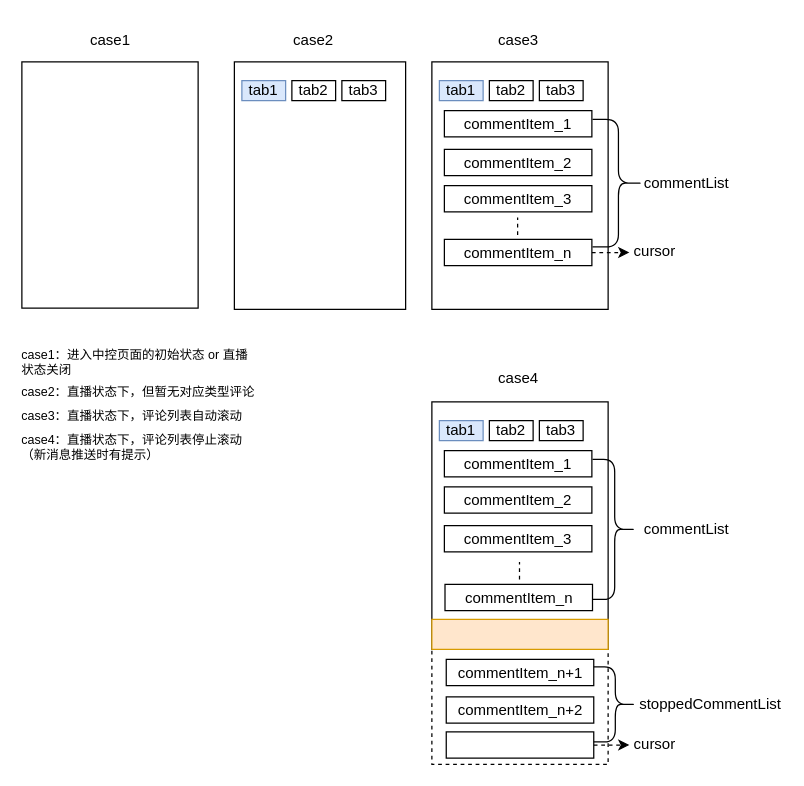
Image size: 804x786. Some labels were removed from this diagram. Here are the shapes that lost their labels. From the top down, the box of each, then its label:
(21, 61, 198, 308): No-Data (未开播)
(233, 61, 406, 309): No-Data (无对应类型评论)
(431, 618, 608, 649): newCommentNotice
(445, 731, 594, 758): commentItem_n+3
